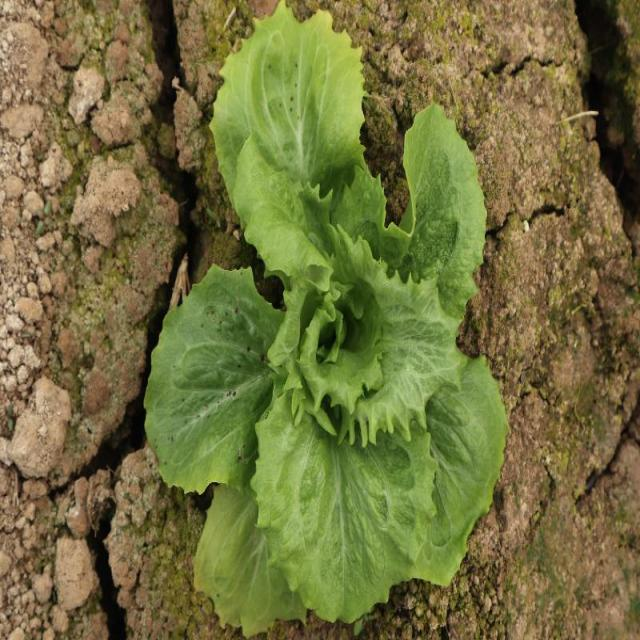crop: (142, 0, 517, 640)
